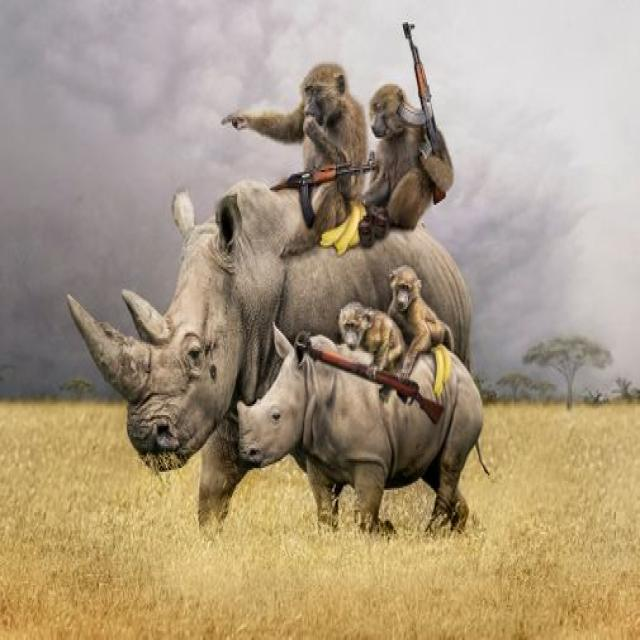firearm: (306, 339, 444, 426), (396, 20, 447, 206), (269, 149, 378, 231)
